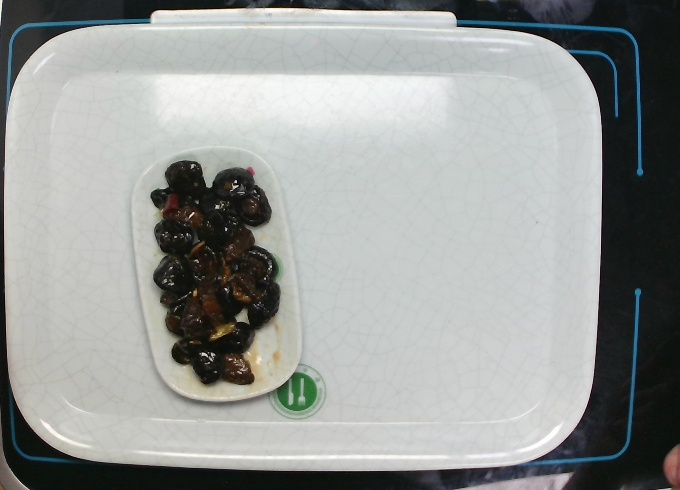WCQzf-Tuo_Yuan_Pan: (129, 144, 309, 407)
